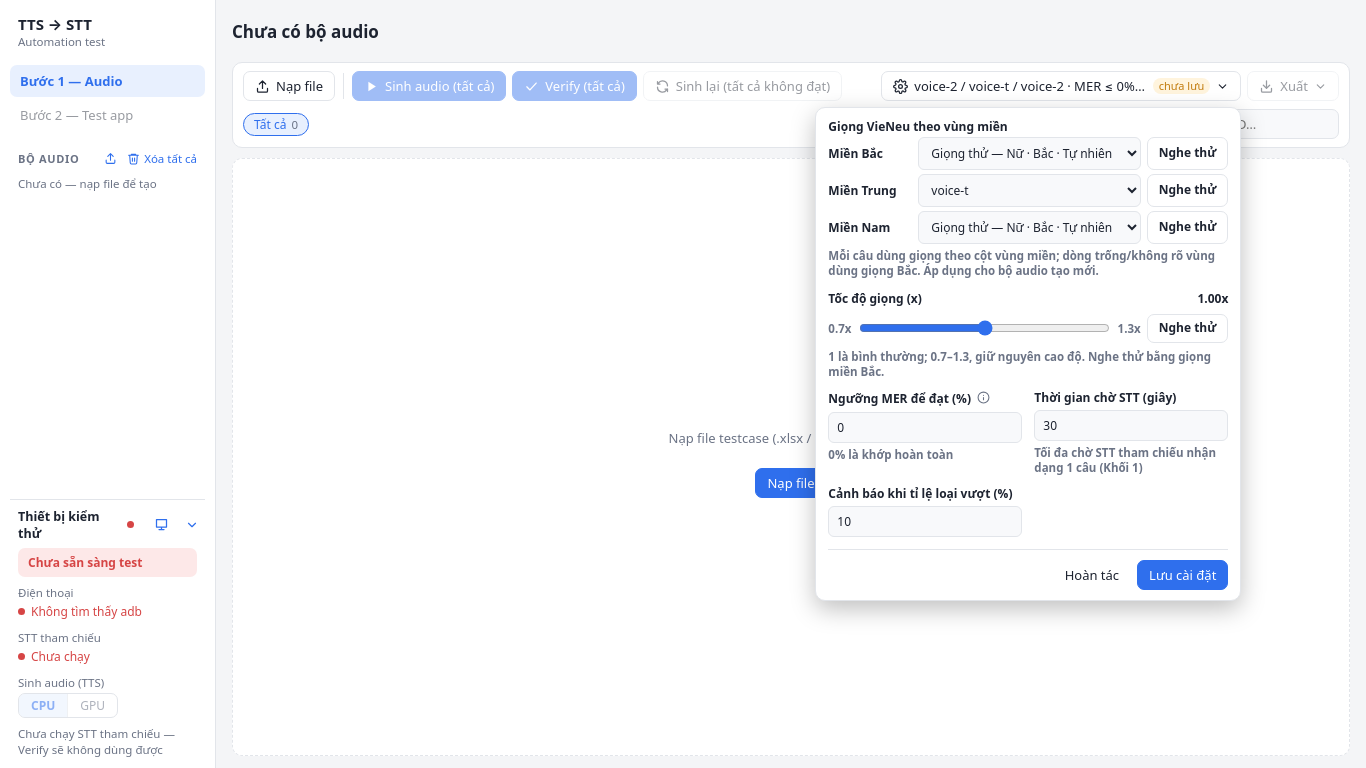
edits run settings from the action bar and saves MER as a ratio
Earlier steps of the test are not shown.
Expected: the button named "voice-1 / voice-t / voice-n · MER ≤ 0% · 30s" shows "voice-2", [881,71,1241,101]
Expected: the button named "voice-1 / voice-t / voice-n · MER ≤ 0% · 30s" shows "chưa lưu", [881,71,1241,101]
Click the button named "Cách chấm MER và CER": (984, 398) [975,389,992,406]
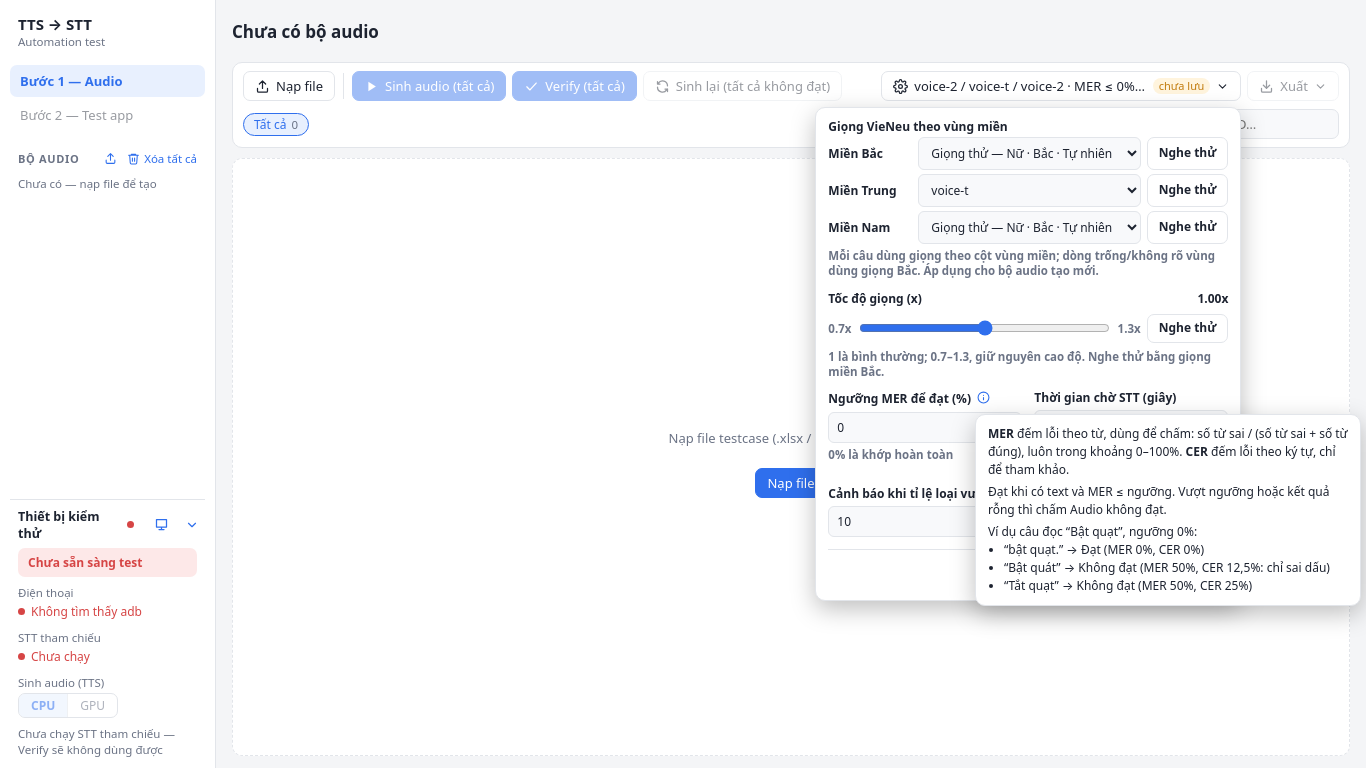
Expected: the dialog named "Cách chấm MER và CER" shows "chỉ để tham khảo", [988,443,1336,478]
Click the button named "Cách chấm MER và CER": (984, 398) [975,389,992,406]
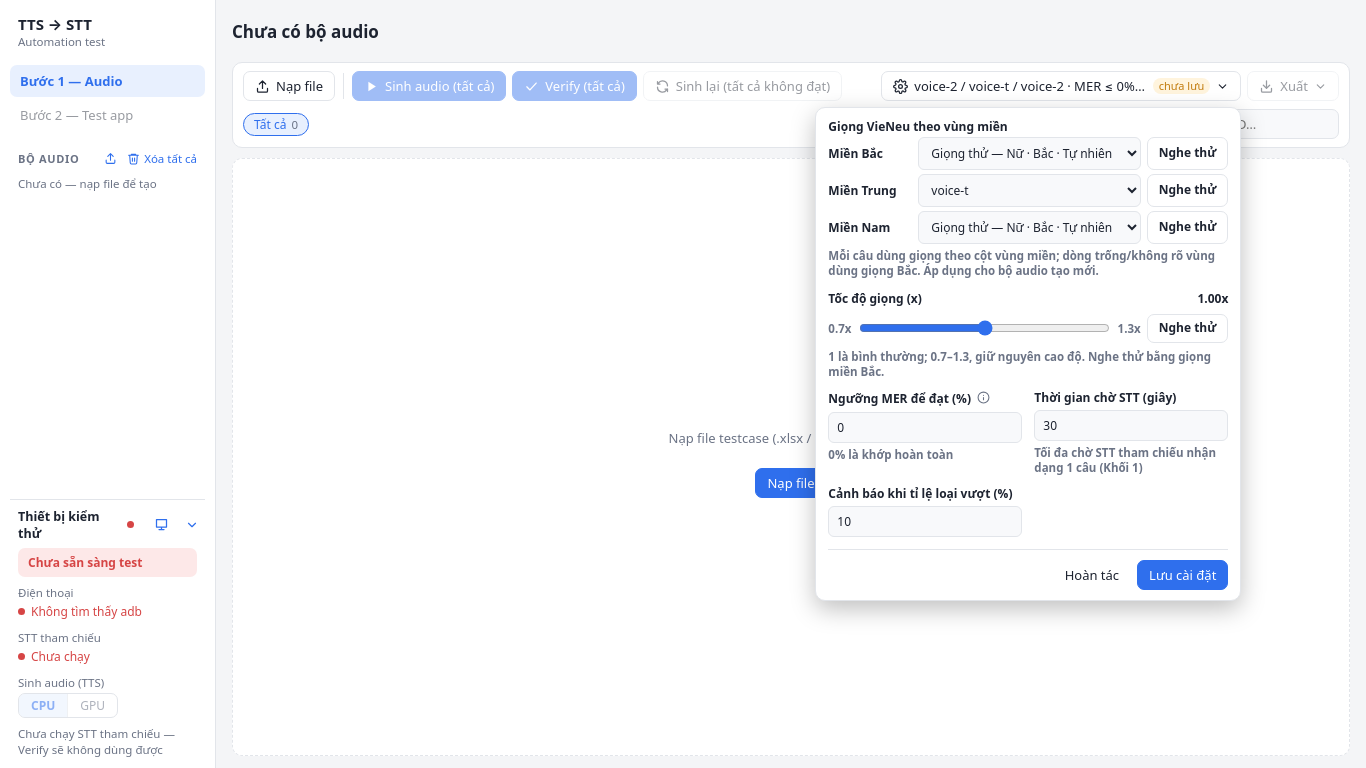
Expected: the text "0% là khớp hoàn toàn" is shown, [828,447,953,462]
Expected: the number field labelled "Ngưỡng MER để đạt (%)" holds "0"
Replace the text in the number field labelled "Ngưỡng MER để đạt (%)" with "25": (925, 428) [828,412,1022,443]
Replace the text in the number field labelled "Thời gian chờ STT (giây)" with "45": (1131, 426) [1034,410,1228,441]
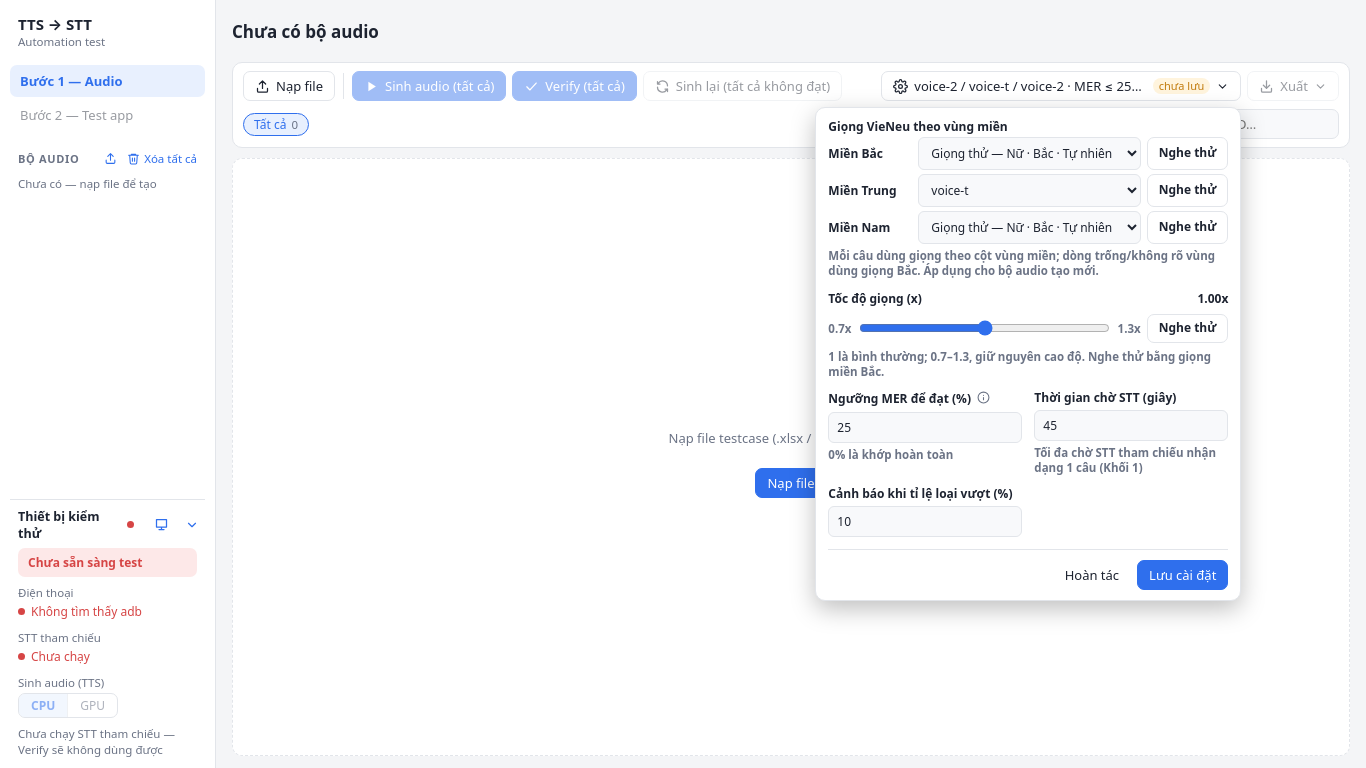
Expected: the number field labelled "Cảnh báo khi tỉ lệ loại vượt (%)" holds "10"
Replace the text in the number field labelled "Cảnh báo khi tỉ lệ loại vượt (%)" with "20": (925, 522) [828,506,1022,537]
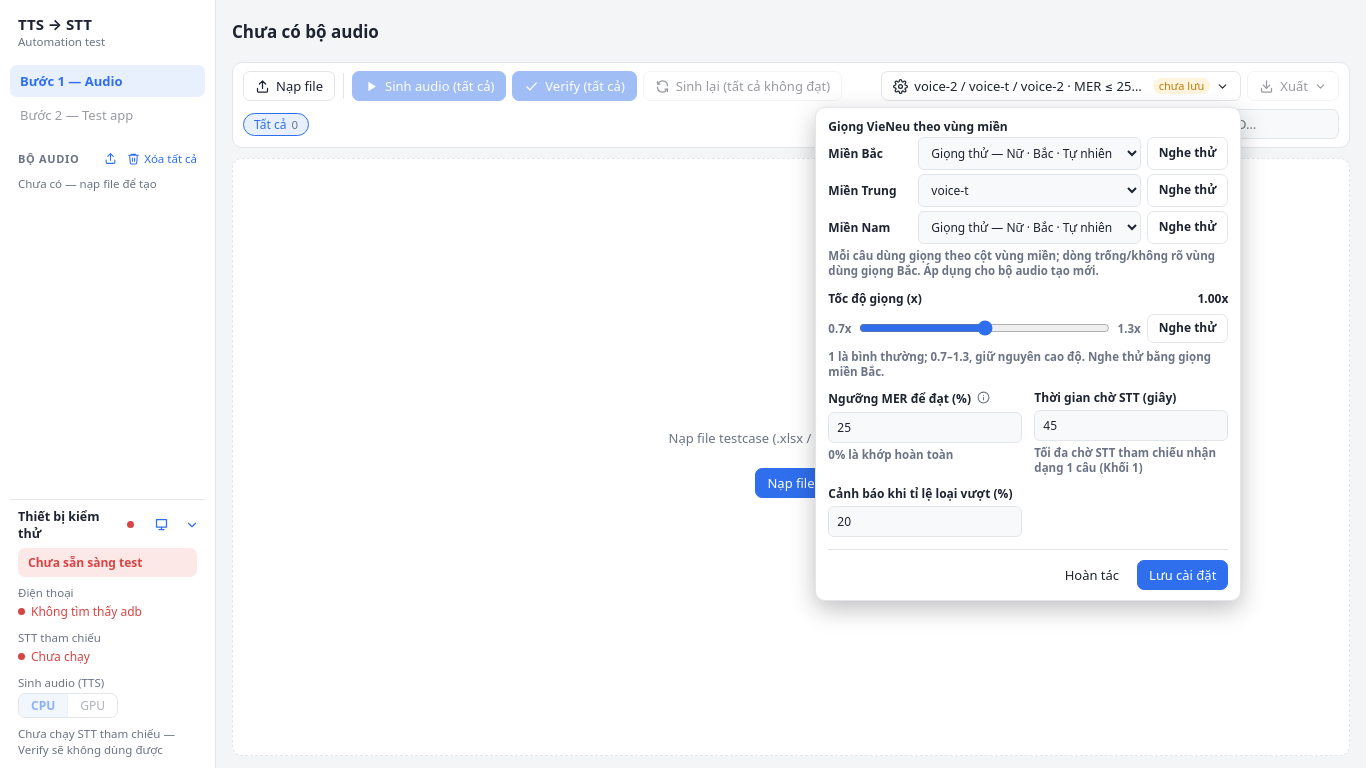
Set the slider labelled "Tốc độ giọng (x)" to "1.2": (1063, 328) [860,313,1110,343]
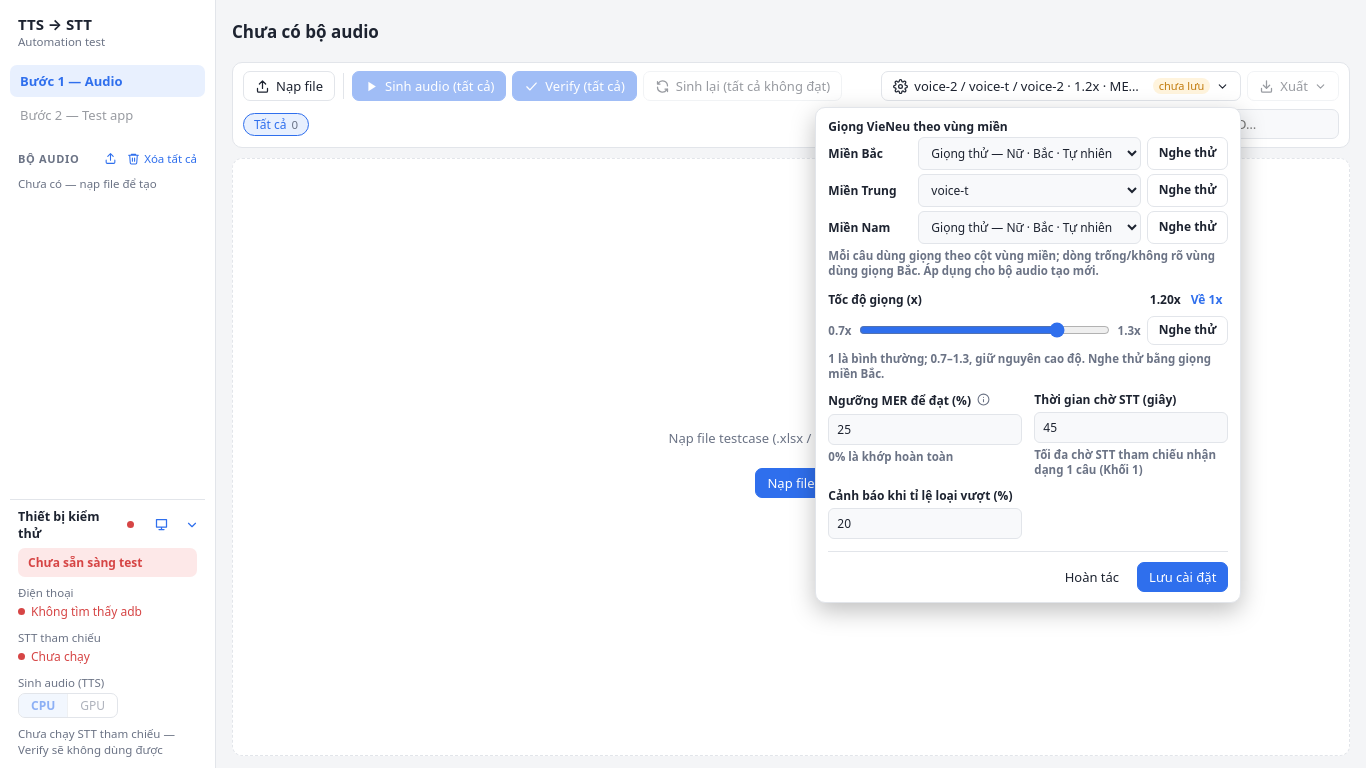
Click the button "Lưu cài đặt": (1183, 577) [1137,562,1228,592]
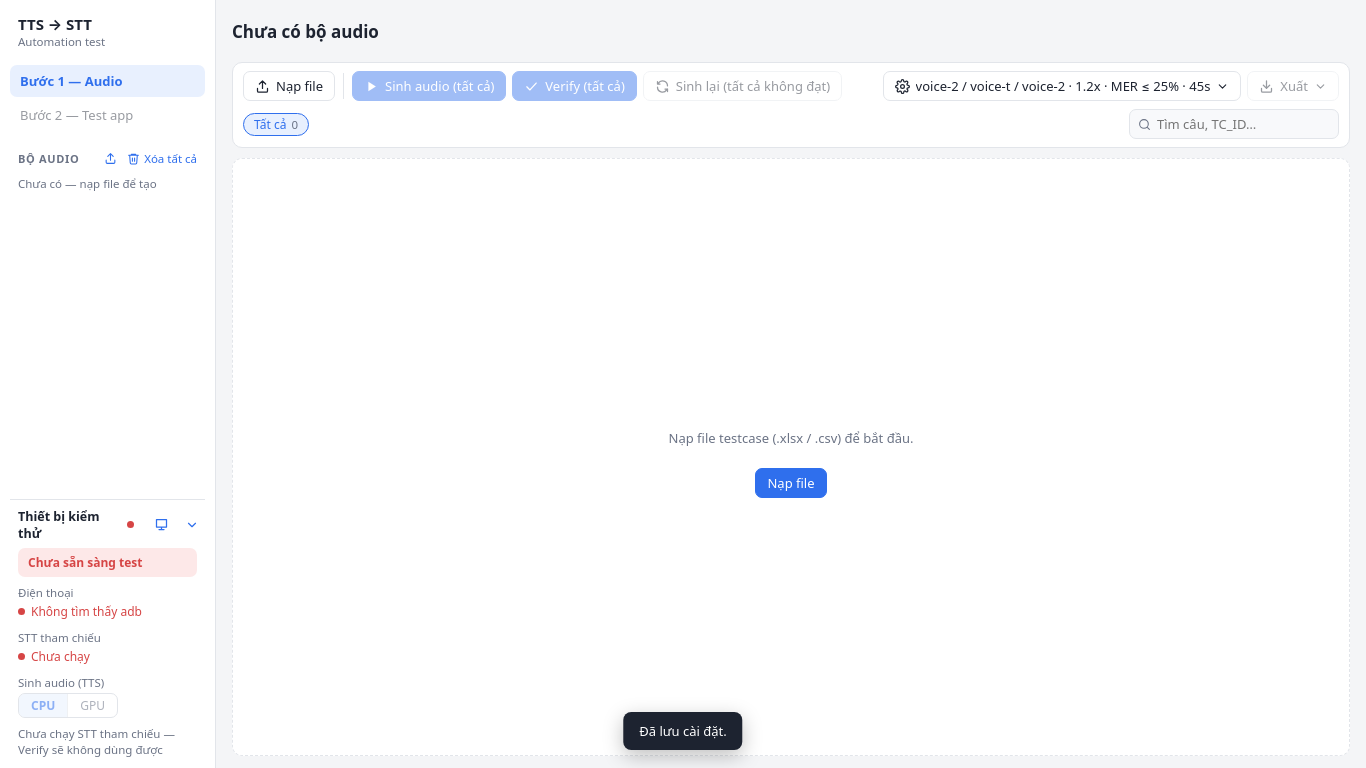
Expected: the button named "voice-1 / voice-t / voice-n · MER ≤ 0% · 30s" shows "1.2x", [883,71,1241,101]
Expected: the button named "voice-1 / voice-t / voice-n · MER ≤ 0% · 30s" shows "MER ≤ 25% · 45s", [883,71,1241,101]
Expected: the text "voice-1 / voice-t / voice-n · MER ≤ 0% · 30s" no longer shows "chưa lưu"
